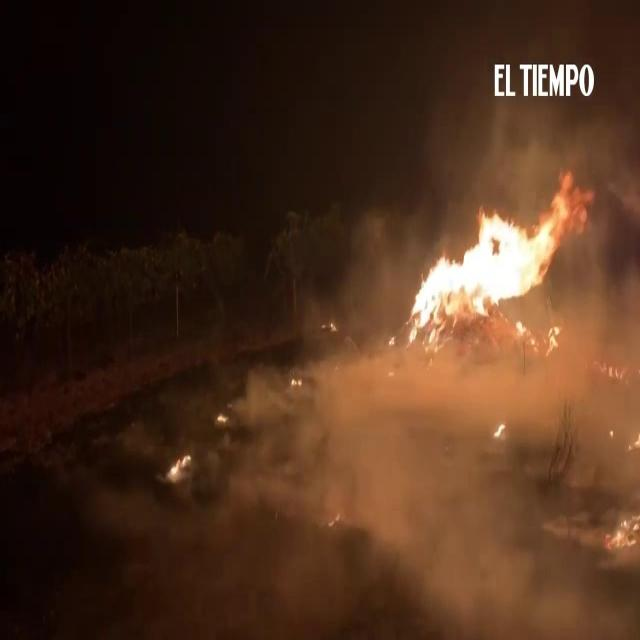Fire: (385, 180, 595, 350), (604, 507, 638, 558), (169, 452, 191, 479), (598, 359, 626, 380), (493, 421, 505, 439), (290, 372, 301, 387), (214, 413, 228, 424), (330, 318, 336, 332)
